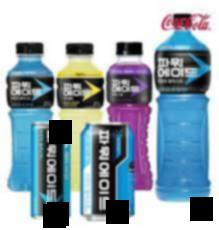powerade_mountainblast: (6, 31, 54, 188)
